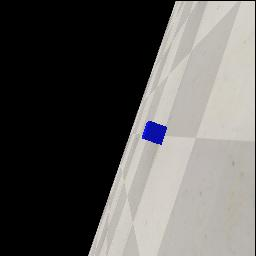box: (142, 121, 167, 145)
